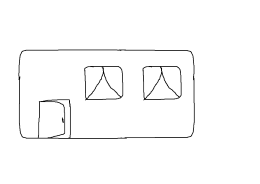door: (33, 93, 75, 144)
open_window: (137, 62, 186, 106), (81, 63, 127, 104)
single_line_roof: (18, 36, 206, 63)
wall: (15, 61, 198, 143)
